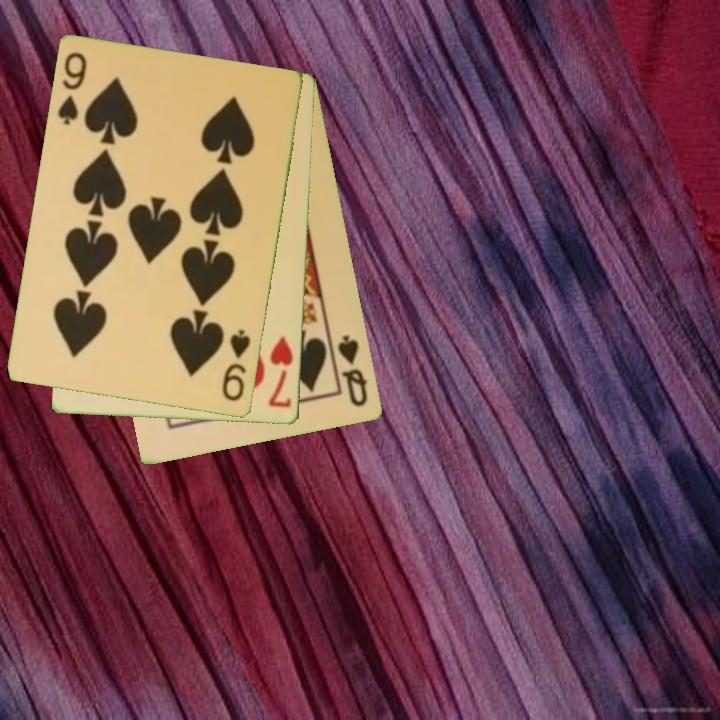7h: (265, 334, 297, 411)
9s: (54, 49, 90, 129), (219, 326, 254, 405)
Qs: (334, 332, 371, 410)
